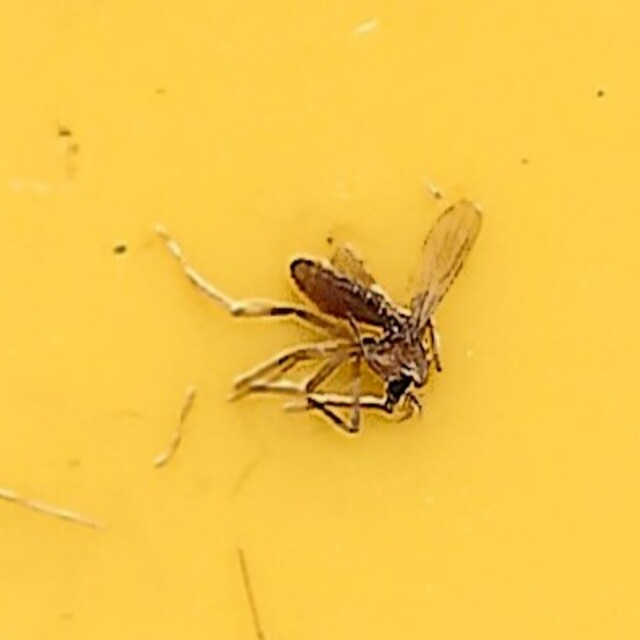Nematocera: (161, 199, 479, 441)
